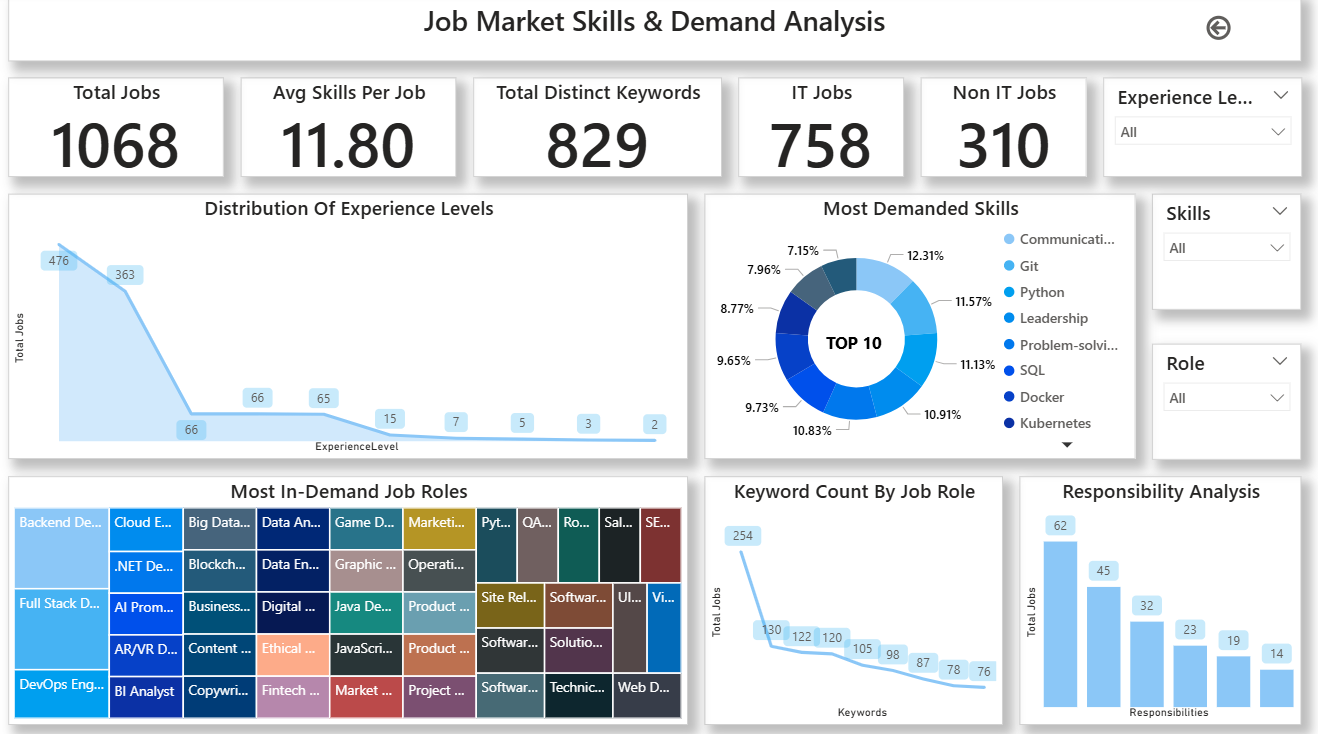

The page's visual inventory and layout, read from the dashboard file:
{"tool":"powerbi","page":{"name":"Dashboard","canvas":[1280,720],"ordinal":1},"visuals":[{"type":"card","title":"Total Jobs","fields":{"Values":["FactJobPostings.Total Jobs"]},"box":[16,80,208,96],"z":0},{"type":"card","title":"Avg Skills Per Job","fields":{"Values":["FactJobPostings.Avg Skills per Job"]},"box":[240,80,208,96],"z":1000},{"type":"areaChart","title":"Distribution Of Experience Levels","fields":{"Category":["FactJobPostings.ExperienceLevel"],"Y":["FactJobPostings.Total Jobs"]},"box":[16,192,656,256],"z":2000},{"type":"textbox","box":[16,0,1248,64],"z":3000},{"type":"lineChart","title":"Keyword Count By Job Role","fields":{"Category":["DimKeywords.Keywords"],"Y":["FactJobPostings.Total Jobs"]},"box":[688,464,288,240],"z":4000},{"type":"card","title":"Total Distinct Keywords","fields":{"Values":["Count(DimKeywords.Keywords)"]},"box":[464,80,240,96],"z":5000},{"type":"card","title":"IT Jobs","fields":{"Values":["CountNonNull(FactJobPostings.JobCategory)"]},"box":[720,80,160,96],"z":6000},{"type":"slicer","fields":{"Values":["DimSkill.Skills"]},"box":[1120,192,144,112],"z":7000},{"type":"donutChart","title":"Most Demanded Skills","fields":{"Y":["FactJobPostings.Total Jobs"],"Category":["DimSkill.Skills"]},"box":[688,192,416,256],"z":8000},{"type":"card","title":"Non IT Jobs","fields":{"Values":["CountNonNull(FactJobPostings.JobCategory)"]},"box":[896,80,160,96],"z":9000},{"type":"actionButton","box":[1168,16,32,32],"z":10000},{"type":"slicer","fields":{"Values":["FactJobPostings.Title"]},"box":[1120,336,144,112],"z":11000},{"type":"slicer","fields":{"Values":["FactJobPostings.ExperienceLevel"]},"box":[1072,80,192,96],"z":12000},{"type":"treemap","title":"Most In-Demand Job Roles","fields":{"Group":["DimRole.Title"],"Values":["FactJobPostings.Total Jobs"]},"box":[16,464,656,240],"z":13000},{"type":"textbox","box":[800,320,80,32],"z":14000},{"type":"columnChart","title":"Responsibility Analysis","fields":{"Category":["DimResponsibility.Responsibilities"],"Y":["FactJobPostings.Total Jobs"]},"box":[992,464,272,240],"z":15000}]}

Visuals, with their boxes in screenshot pixels (x1, y1, x2, y2), scaled from the page's 1280x720 canvas onto the 1318x734 screenshot:
"Total Jobs" card: 16, 82, 231, 179
"Avg Skills Per Job" card: 247, 82, 461, 179
"Distribution Of Experience Levels" areaChart: 16, 196, 692, 457
textbox: 16, 0, 1302, 65
"Keyword Count By Job Role" lineChart: 708, 473, 1005, 718
"Total Distinct Keywords" card: 478, 82, 725, 179
"IT Jobs" card: 741, 82, 906, 179
slicer - DimSkill.Skills: 1153, 196, 1302, 310
"Most Demanded Skills" donutChart: 708, 196, 1137, 457
"Non IT Jobs" card: 923, 82, 1087, 179
actionButton: 1203, 16, 1236, 49
slicer - FactJobPostings.Title: 1153, 343, 1302, 457
slicer - FactJobPostings.ExperienceLevel: 1104, 82, 1302, 179
"Most In-Demand Job Roles" treemap: 16, 473, 692, 718
textbox: 824, 326, 906, 359
"Responsibility Analysis" columnChart: 1021, 473, 1302, 718
